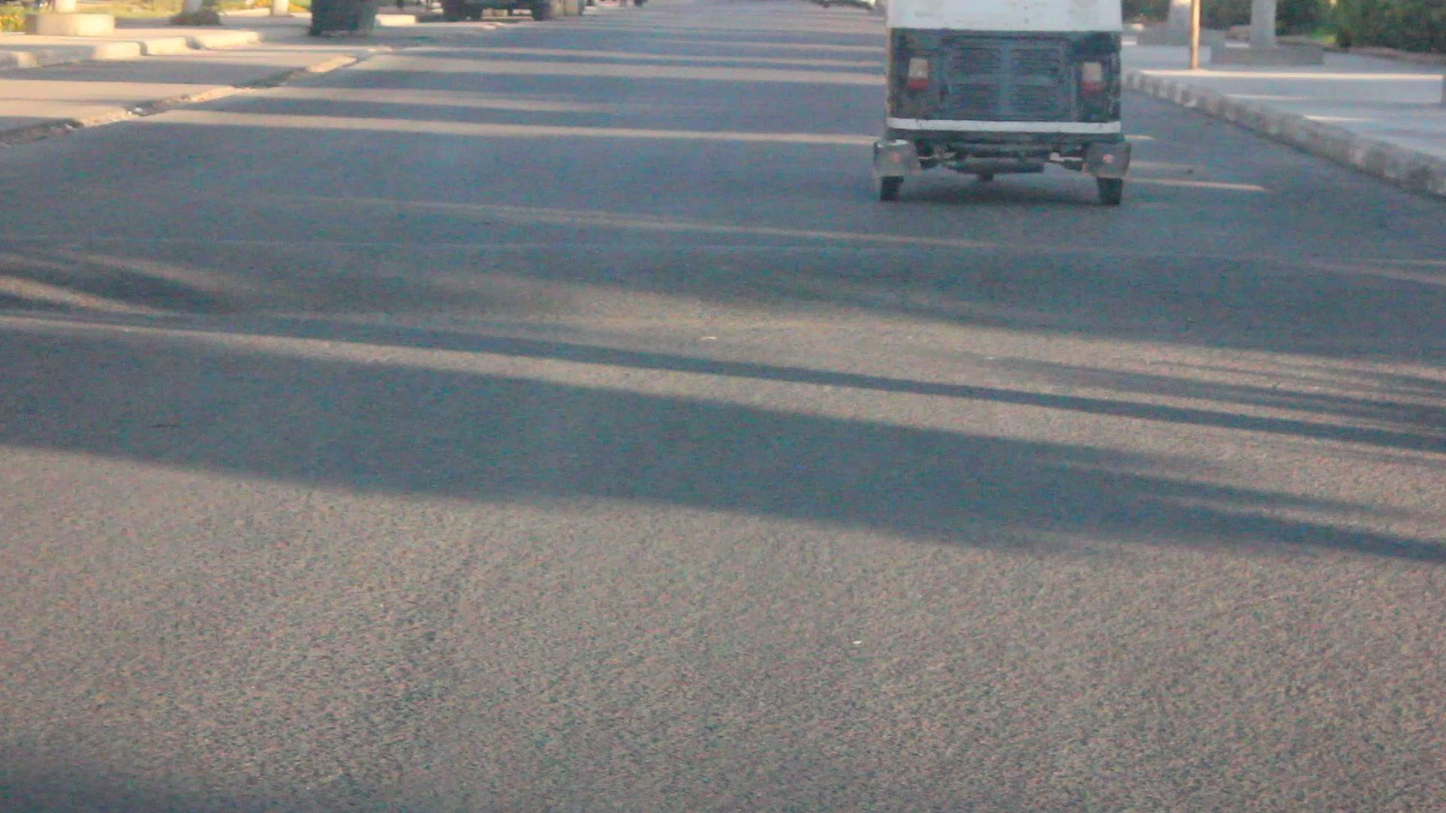Bump: (21, 228, 1446, 350)
